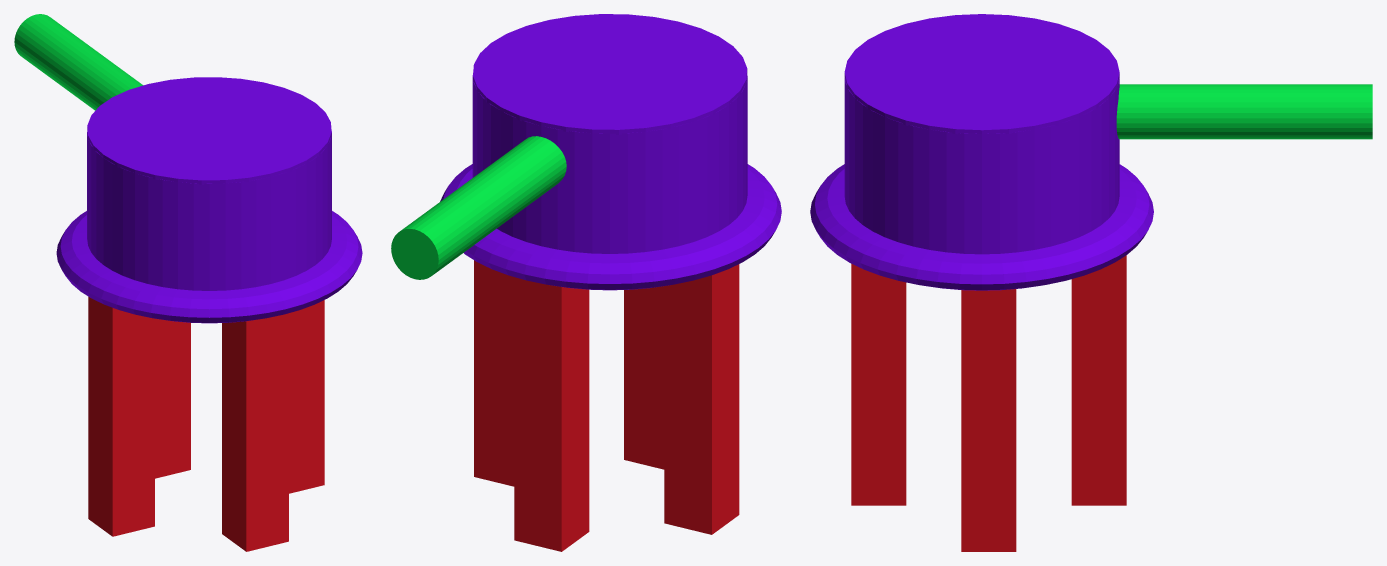
The model's file is Turret.fbx.
The picture shows the model from 3 angles, left to right: view 1: azimuth 30°, elevation 25°; view 2: azimuth 150°, elevation 25°; view 3: azimuth 270°, elevation 25°; orthographic projection. The views are drawn at different scales.
Parts seen in each view (by area): view 1: Cylinder, Cube.001; view 2: Cylinder, Cube.001; view 3: Cylinder, Cube.001.
Boxes of the visible parts, left/top/right/bottom form: Cylinder: left=14, top=14, right=362, bottom=323; Cube.001: left=88, top=296, right=324, bottom=551; Cylinder: left=391, top=14, right=781, bottom=290; Cube.001: left=474, top=260, right=739, bottom=551; Cylinder: left=810, top=14, right=1372, bottom=290; Cube.001: left=851, top=255, right=1126, bottom=551.
Bounding box in the file's own units: 500 × 677 × 818.
